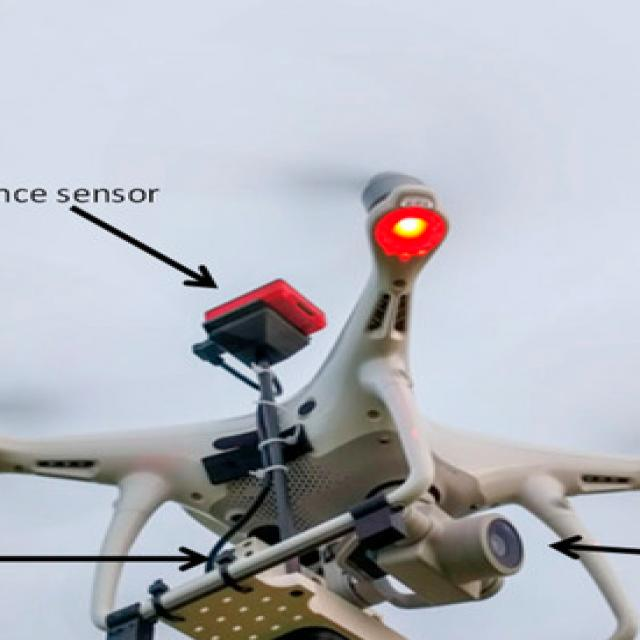drone: (0, 178, 640, 640)
